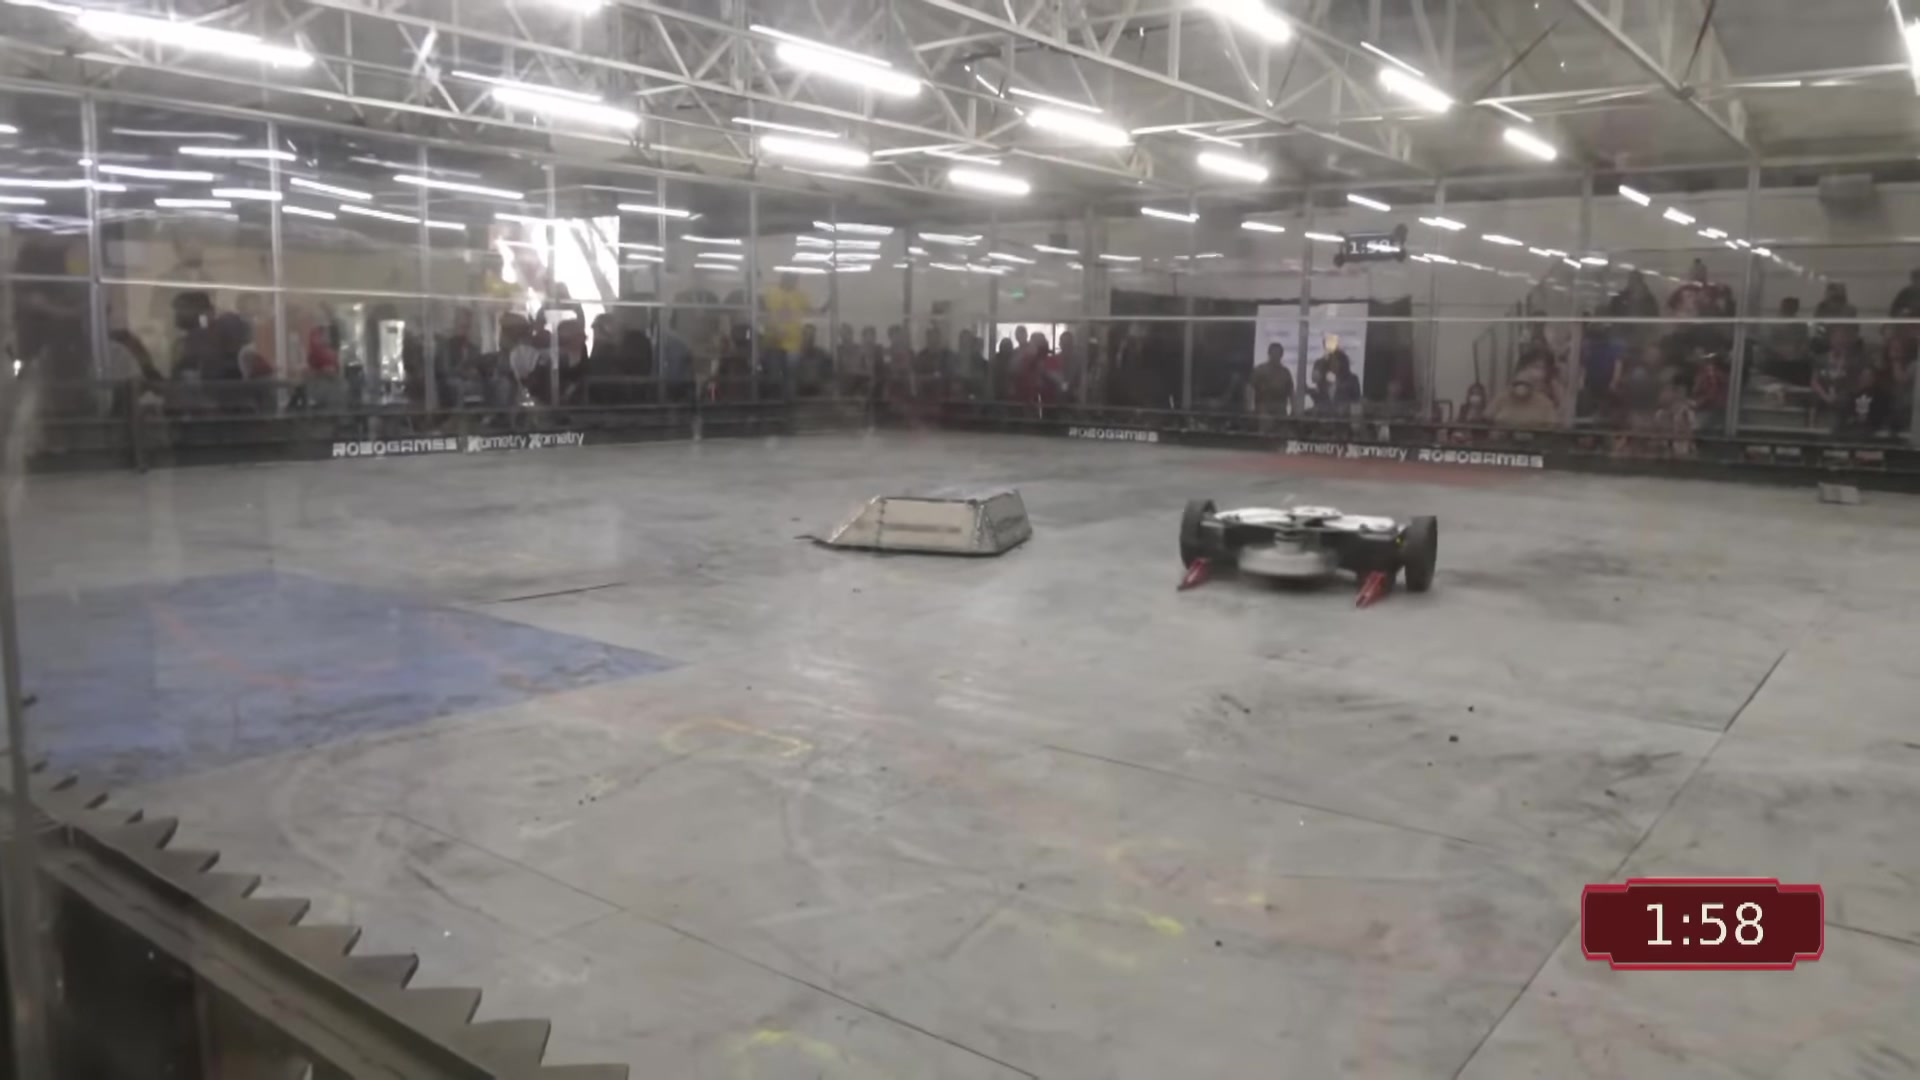combatbot: (1175, 497, 1435, 605), (819, 489, 1042, 556)
